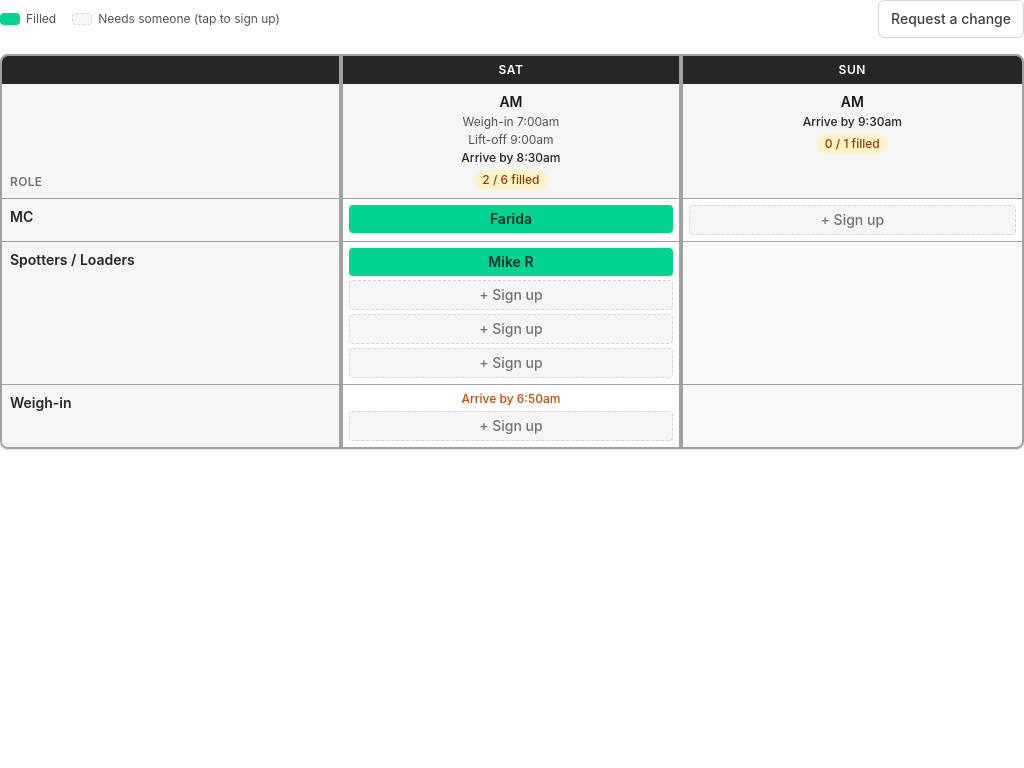
Scenario: PublicRotaBoard — signing up › closes the pop-up on Escape
The width and height of the screenshot is (1024, 768).
Click the button with aria-label "Sign up for Sat AM · Weigh-in": coordinates (511, 426) left=349, top=411, right=673, bottom=441
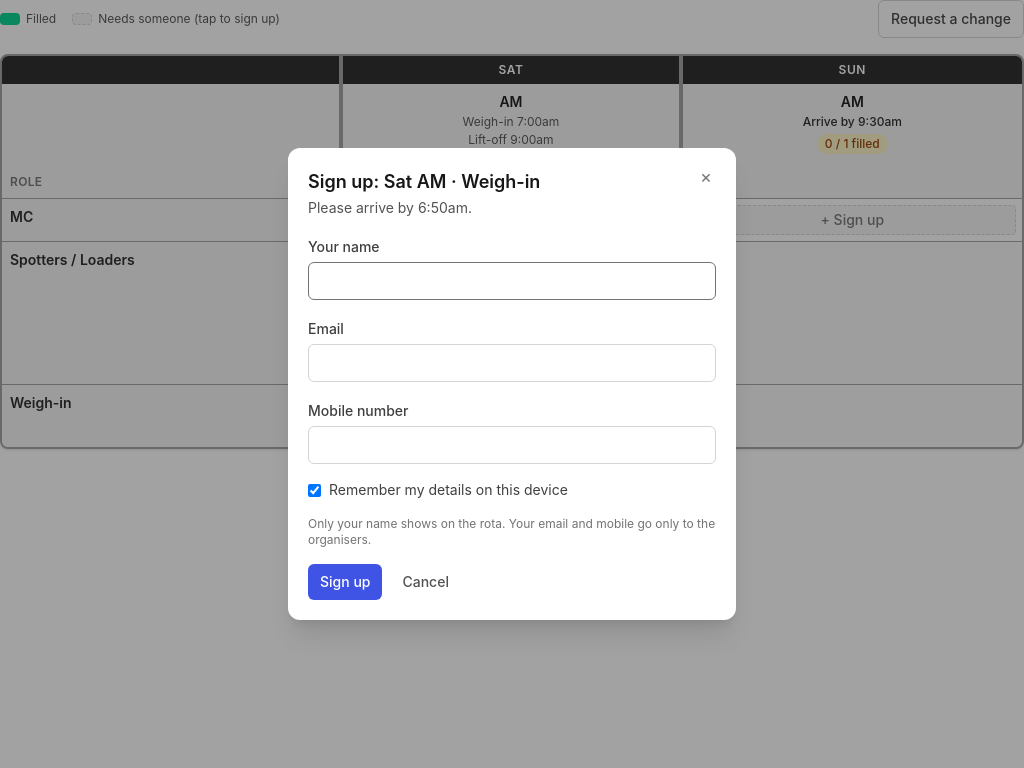
Press Escape
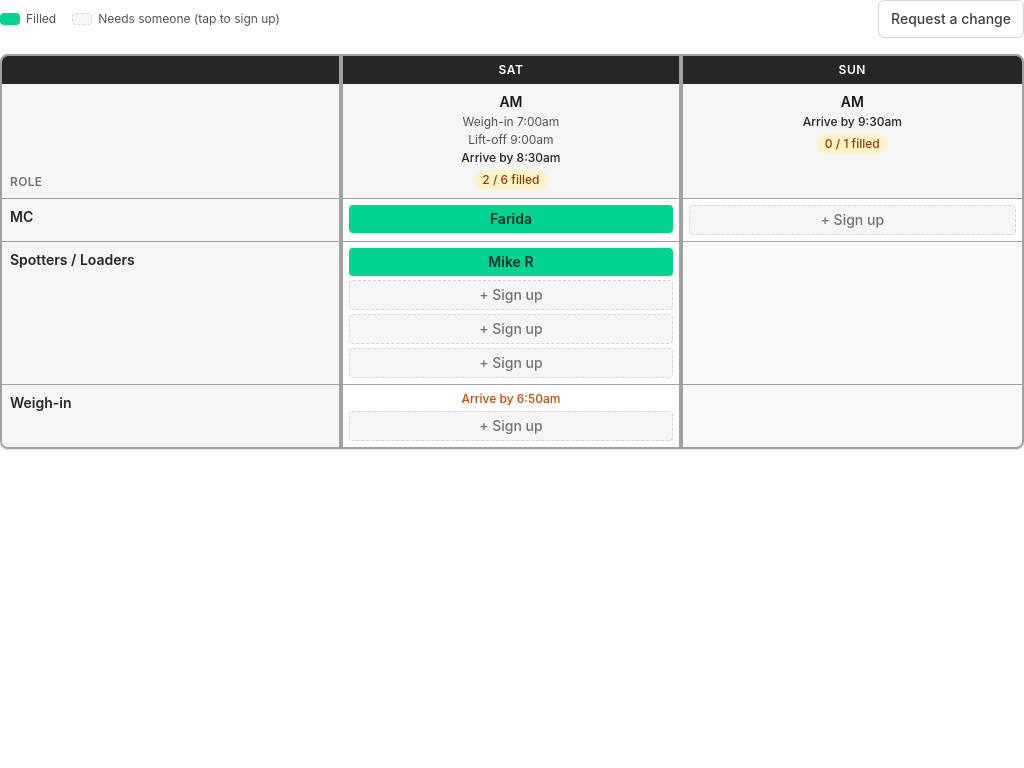
Now the dialog is gone
